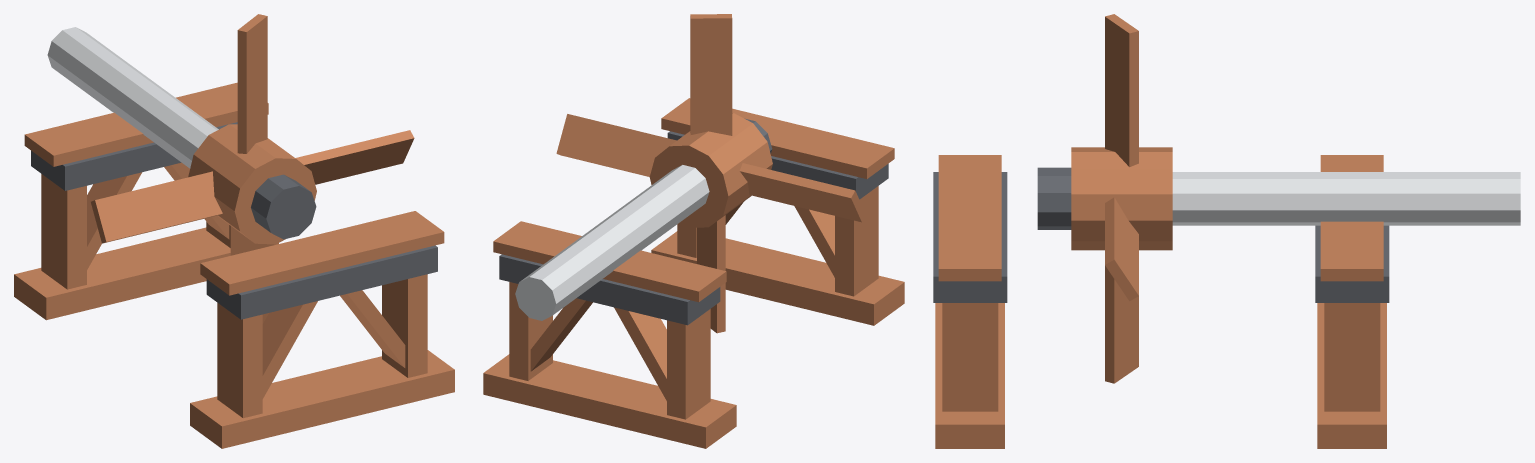
The model's file is shipyard-and-dry-dock-shipyard-and-dry-dock-propeller--0590f916__37926.glb.
The picture shows the model from 3 angles, left to right: view 1: azimuth 30°, elevation 25°; view 2: azimuth 150°, elevation 25°; view 3: azimuth 270°, elevation 25°; orthographic projection. The views are drawn at different scales.
Parts seen in each view (by area): view 1: shipyard-and-dry-dock-propeller-and-shaft, propeller/primer (×5), propeller/steel, propeller/charcoal; view 2: shipyard-and-dry-dock-propeller-and-shaft, propeller/primer (×5), propeller/steel; view 3: shipyard-and-dry-dock-propeller-and-shaft, propeller/primer (×4), propeller/steel, propeller/charcoal.
Part boxes in pixels (x1=…): shipyard-and-dry-dock-propeller-and-shaft: x1=14, y1=82, x2=454, y2=448; propeller/primer (×5): x1=91, y1=14, x2=414, y2=323; propeller/steel: x1=47, y1=27, x2=218, y2=168; propeller/charcoal: x1=251, y1=174, x2=316, y2=239; shipyard-and-dry-dock-propeller-and-shaft: x1=483, y1=98, x2=904, y2=448; propeller/primer (×5): x1=556, y1=14, x2=865, y2=333; propeller/steel: x1=515, y1=165, x2=709, y2=320; shipyard-and-dry-dock-propeller-and-shaft: x1=933, y1=155, x2=1389, y2=448; propeller/primer (×4): x1=1071, y1=14, x2=1172, y2=383; propeller/steel: x1=1172, y1=172, x2=1520, y2=225; propeller/charcoal: x1=1037, y1=167, x2=1071, y2=229.
Size of the model in its own units: 3.44 by 3.57 by 5.23.
